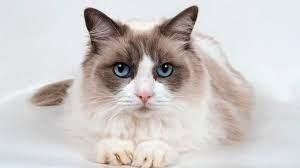ragdoll: (66, 1, 210, 134)
